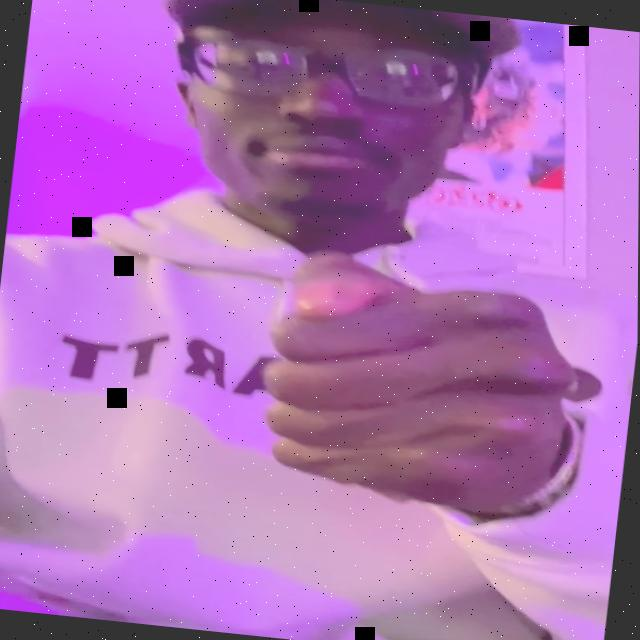Rock: (247, 247, 591, 522)
